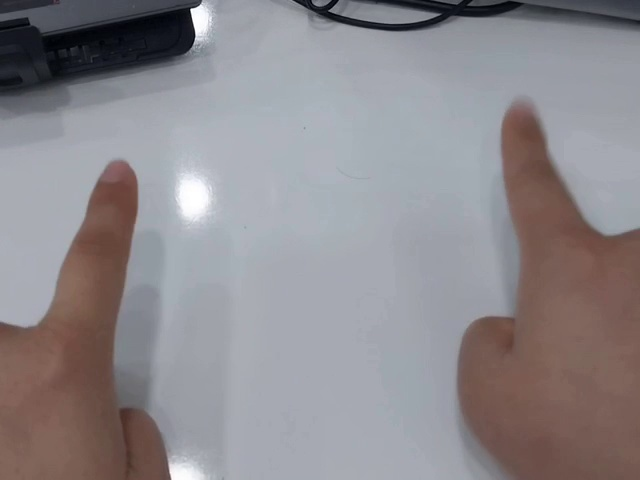fingers: (85, 159, 140, 217), (499, 102, 546, 150)
